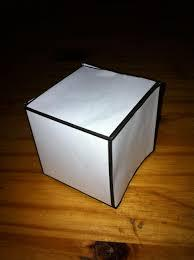cubos: (22, 60, 169, 213)
